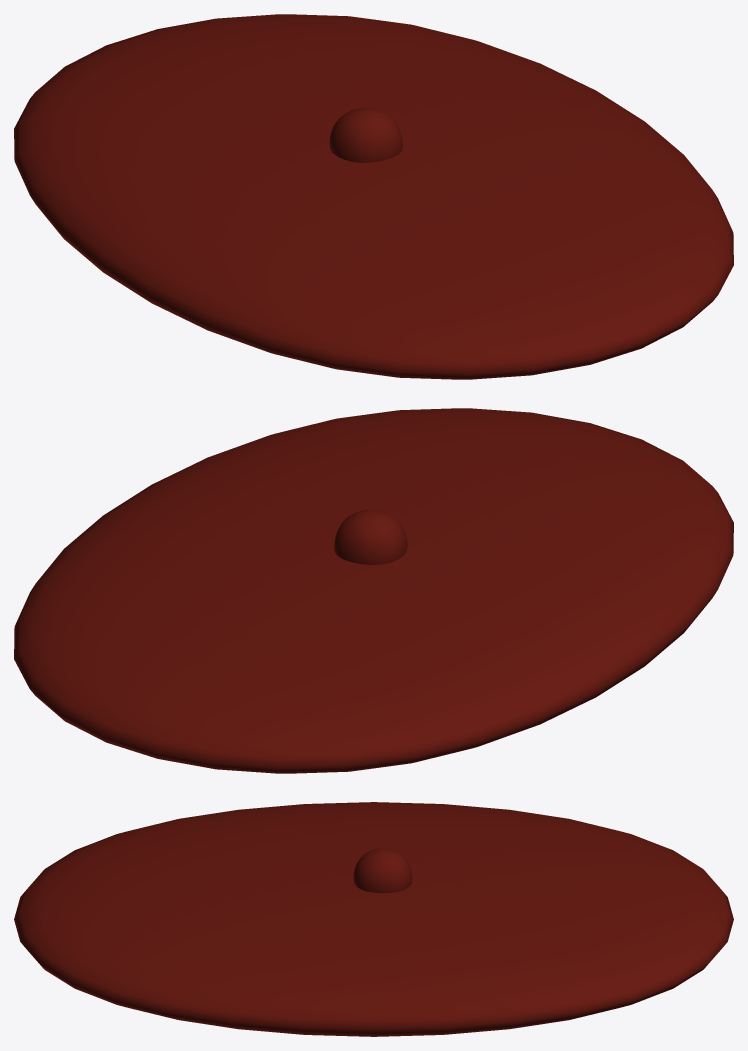
Rendered from tapa.fbx.
The picture shows the model from 3 angles, top to bottom: view 1: azimuth 30°, elevation 25°; view 2: azimuth 150°, elevation 25°; view 3: azimuth 270°, elevation 25°; orthographic projection. The views are drawn at different scales.
Parts seen in each view (by area): view 1: Cube.002; view 2: Cube.002; view 3: Cube.002.
Part boxes in pixels (x1,y1,x2,y2): Cube.002: [14, 14, 733, 379]; Cube.002: [14, 408, 733, 773]; Cube.002: [14, 802, 733, 1036].
Size of the model in its own units: 503 by 112 by 696.
